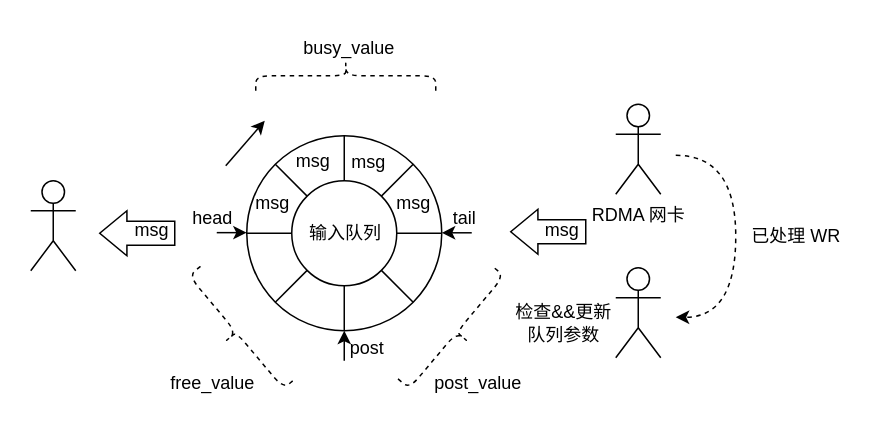
The diagram is 882 pixels wide and 431 high, and some of its shapes have lost their labels. Each missing label, with the centre of its shape:
Listener: [637,312]
Server: [52,225]
